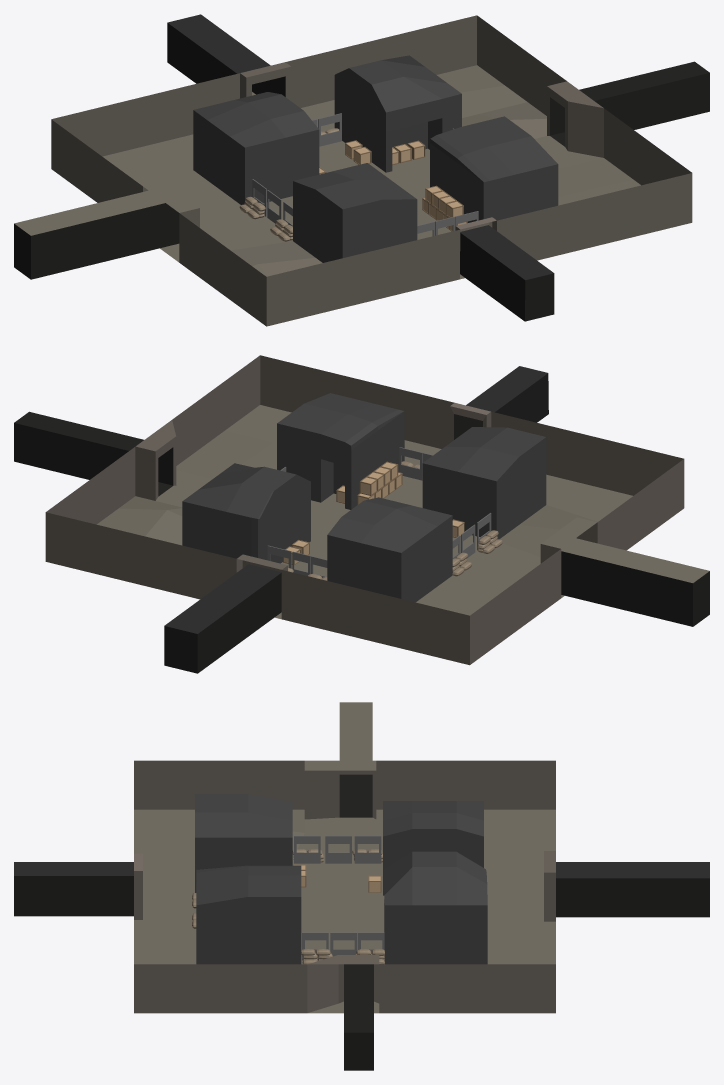
Rendered from test map 01 (2).fbx.
3 views of the same model, one above another, from view 1: azimuth 30°, elevation 25°; view 2: azimuth 150°, elevation 25°; view 3: azimuth 270°, elevation 25° (orthographic). The views are drawn at different scales.
Parts seen in each view (by area): view 1: Plane, Cube.004, Cube.014, Cube.024, Cube.002; view 2: Plane, Cube.004, Cube.014, Cube.024, Cube.002; view 3: Plane, Cube.004, Cube.024, Cube.021.
Boxes of the visible parts, x1,y1,x2,y2 form: Plane: [14, 14, 709, 326]; Cube.004: [252, 113, 478, 235]; Cube.014: [422, 185, 467, 231]; Cube.024: [239, 128, 339, 241]; Cube.002: [319, 140, 425, 174]; Plane: [14, 355, 709, 673]; Cube.004: [267, 447, 491, 577]; Cube.014: [357, 461, 402, 504]; Cube.024: [288, 461, 502, 580]; Cube.002: [283, 519, 464, 564]; Plane: [14, 702, 709, 1070]; Cube.004: [294, 836, 384, 960]; Cube.024: [192, 849, 384, 964]; Cube.021: [325, 836, 351, 863].
Bounding box in the file's own units: 2660 × 293 × 2402.
1 material, 1 textured.
